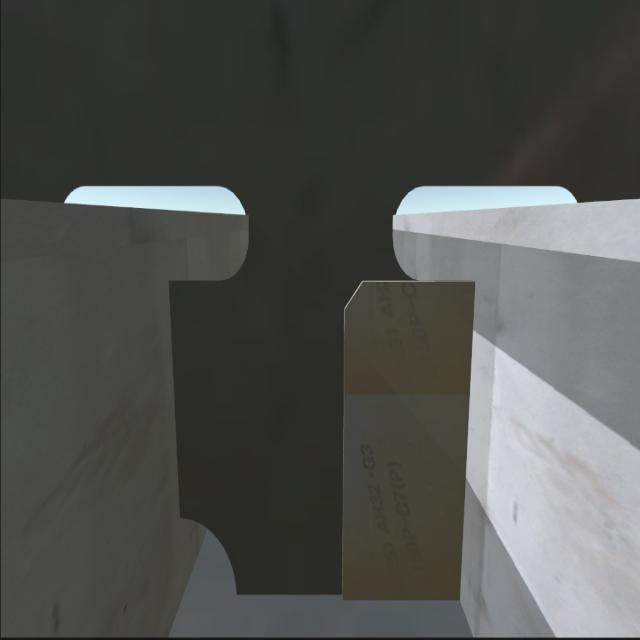fillet_hole: (180, 514, 238, 591)
fillet_yong_jeop_jang: (224, 579, 462, 608)
longi_yong_jeop_jang: (164, 273, 192, 526), (456, 275, 472, 614)
plate_CP03: (342, 274, 464, 600)
